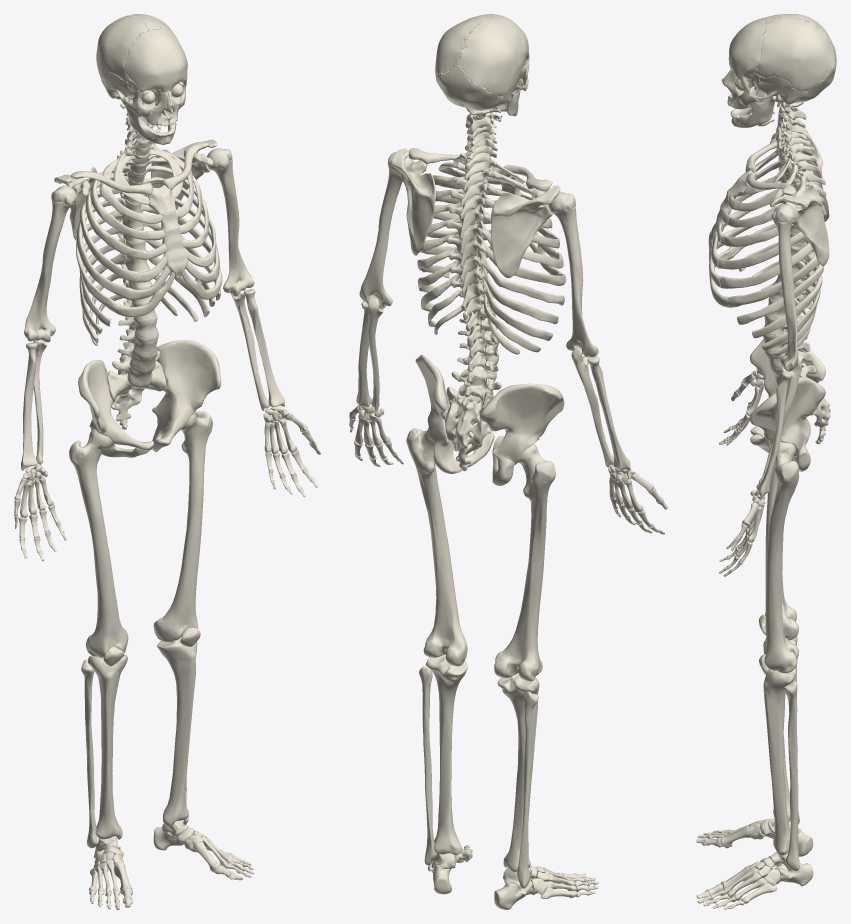
The model's file is skeleton-01.glb.
3 views of the same model, side by side, from view 1: azimuth 30°, elevation 25°; view 2: azimuth 150°, elevation 25°; view 3: azimuth 270°, elevation 25° (orthographic). The views are drawn at different scales.
Visible parts, largest first — view 1: FMA24474_FJ3365, FMA24475_FJ3259, FMA16583_FJ3288, FMA24478_FJ3282, FMA52734_FJ3200, FMA24477_FJ3387, FMA16582_FJ3152, FMA23130_FJ3368, FMA23131_FJ3262, FMA52788_FJ3380, FMA16202_FJ3393, FMA24480_FJ3366 (+17 smaller); view 2: FMA24474_FJ3365, FMA24475_FJ3259, FMA16582_FJ3152, FMA52788_FJ3380, FMA13395_FJ3384, FMA24478_FJ3282, FMA24477_FJ3387, FMA16583_FJ3288, FMA23130_FJ3368, FMA13396_FJ3279, FMA16202_FJ3393, FMA23131_FJ3262 (+14 smaller); view 3: FMA24475_FJ3259, FMA52789_FJ3274, FMA24478_FJ3282, FMA16583_FJ3288, FMA23131_FJ3262, FMA13396_FJ3279, FMA24481_FJ3260, FMA52734_FJ3200, FMA16582_FJ3152, FMA24474_FJ3365, FMA23465_FJ3277, FMA52739_FJ3281 (+24 smaller).
Boxes of the visible parts, x1=… form: FMA24474_FJ3365: x1=69, y1=428, x2=128, y2=657; FMA24475_FJ3259: x1=153, y1=411, x2=212, y2=642; FMA16583_FJ3288: x1=152, y1=340, x2=221, y2=451; FMA24478_FJ3282: x1=157, y1=636, x2=197, y2=826; FMA52734_FJ3200: x1=125, y1=28, x2=187, y2=93; FMA24477_FJ3387: x1=88, y1=654, x2=127, y2=839; FMA16582_FJ3152: x1=78, y1=360, x2=153, y2=457; FMA23130_FJ3368: x1=24, y1=185, x2=76, y2=342; FMA23131_FJ3262: x1=207, y1=148, x2=254, y2=296; FMA52788_FJ3380: x1=96, y1=15, x2=149, y2=81; FMA16202_FJ3393: x1=107, y1=361, x2=166, y2=429; FMA24480_FJ3366: x1=81, y1=659, x2=97, y2=848; FMA24474_FJ3365: x1=494, y1=444, x2=555, y2=681; FMA24475_FJ3259: x1=406, y1=428, x2=467, y2=666; FMA16582_FJ3152: x1=479, y1=383, x2=564, y2=485; FMA52788_FJ3380: x1=458, y1=16, x2=526, y2=96; FMA13395_FJ3384: x1=491, y1=185, x2=560, y2=278; FMA24478_FJ3282: x1=425, y1=654, x2=467, y2=854; FMA24477_FJ3387: x1=497, y1=673, x2=539, y2=871; FMA16583_FJ3288: x1=415, y1=354, x2=494, y2=473; FMA23130_FJ3368: x1=549, y1=192, x2=598, y2=357; FMA13396_FJ3279: x1=391, y1=148, x2=435, y2=255; FMA16202_FJ3393: x1=445, y1=387, x2=491, y2=471; FMA23131_FJ3262: x1=359, y1=152, x2=413, y2=309; FMA24475_FJ3259: x1=764, y1=442, x2=799, y2=673; FMA52789_FJ3274: x1=755, y1=17, x2=834, y2=91; FMA24478_FJ3282: x1=763, y1=668, x2=795, y2=855; FMA16583_FJ3288: x1=750, y1=377, x2=825, y2=471; FMA23131_FJ3262: x1=771, y1=204, x2=798, y2=371; FMA13396_FJ3279: x1=770, y1=184, x2=829, y2=266; FMA24481_FJ3260: x1=783, y1=680, x2=799, y2=870; FMA52734_FJ3200: x1=728, y1=17, x2=767, y2=80; FMA16582_FJ3152: x1=750, y1=330, x2=825, y2=444; FMA24474_FJ3365: x1=765, y1=460, x2=798, y2=640; FMA23465_FJ3277: x1=756, y1=371, x2=792, y2=497; FMA52739_FJ3281: x1=753, y1=76, x2=807, y2=107.
Bounding box in the file's own units: 0.6478 × 1.71 × 0.254.
